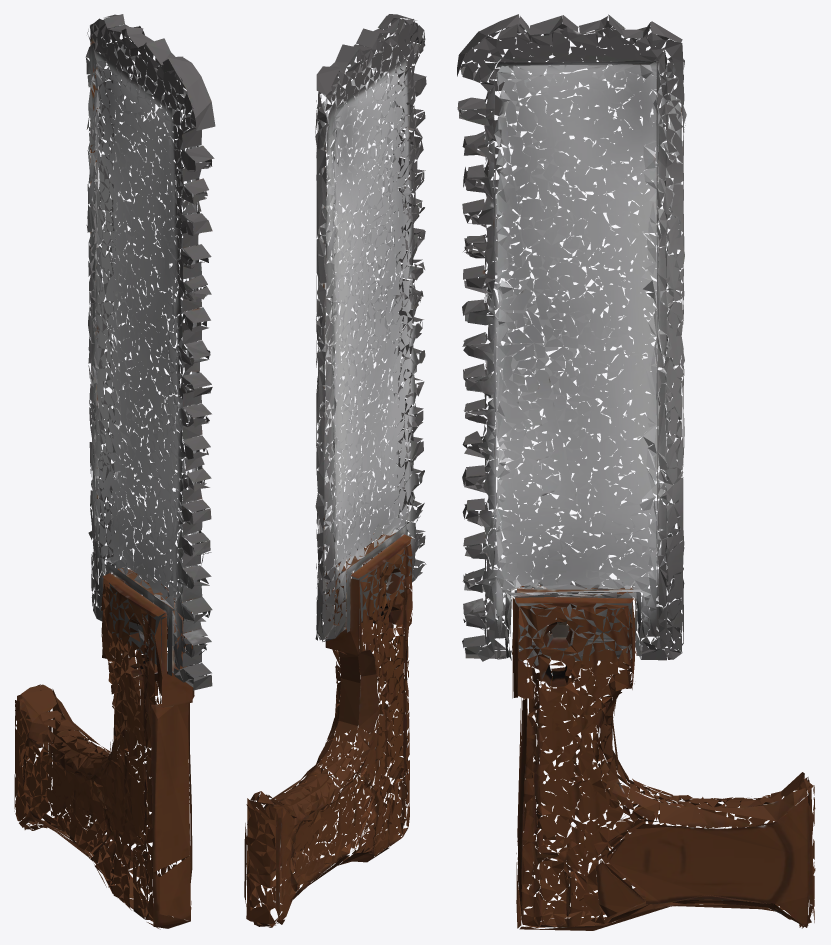
Rendered from tool.saw.glb.
3 renders of one model, left to right at view 1: azimuth 30°, elevation 25°; view 2: azimuth 150°, elevation 25°; view 3: azimuth 270°, elevation 25°, orthographic. The views are drawn at different scales.
Parts seen in each view (by area): view 1: geometry_0; view 2: geometry_0; view 3: geometry_0.
Boxes of the visible parts, box(x1,y1,x2,y2) form: geometry_0: box(14, 14, 215, 929); geometry_0: box(244, 14, 426, 927); geometry_0: box(457, 14, 815, 930).
Size of the model in its own units: 0.0585 by 1 by 0.3592.
1 material, 1 textured.
